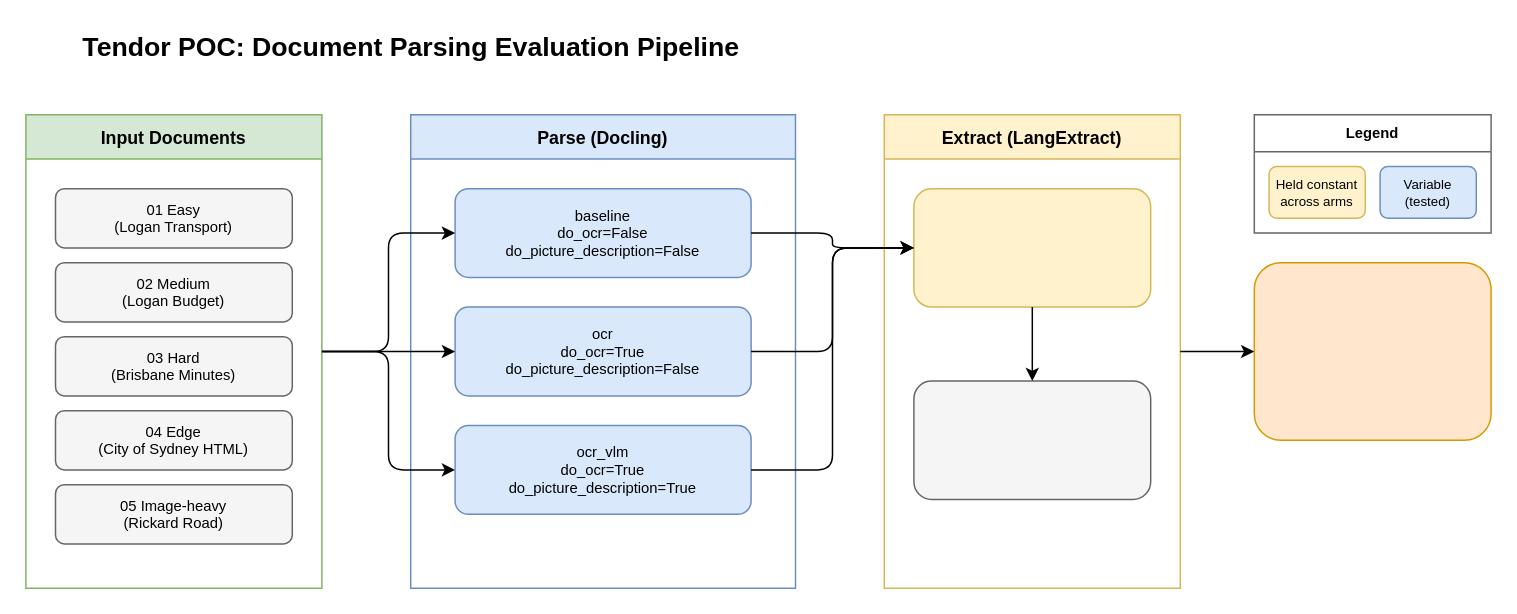
Image size: 1517x614. Some labels were removed from this diagram. The centre of each missing label's shape, as x and y in pixels:
"Evaluate Signal counts Sampled precision Parse latency Token cost" belongs at (1372,350).
"gemini-3.1-flash-lite (OpenRouter) temperature=0 Same config all arms" belongs at (1031,247).
"Output: signals.json + markdown + meta.json" belongs at (1031,440).
